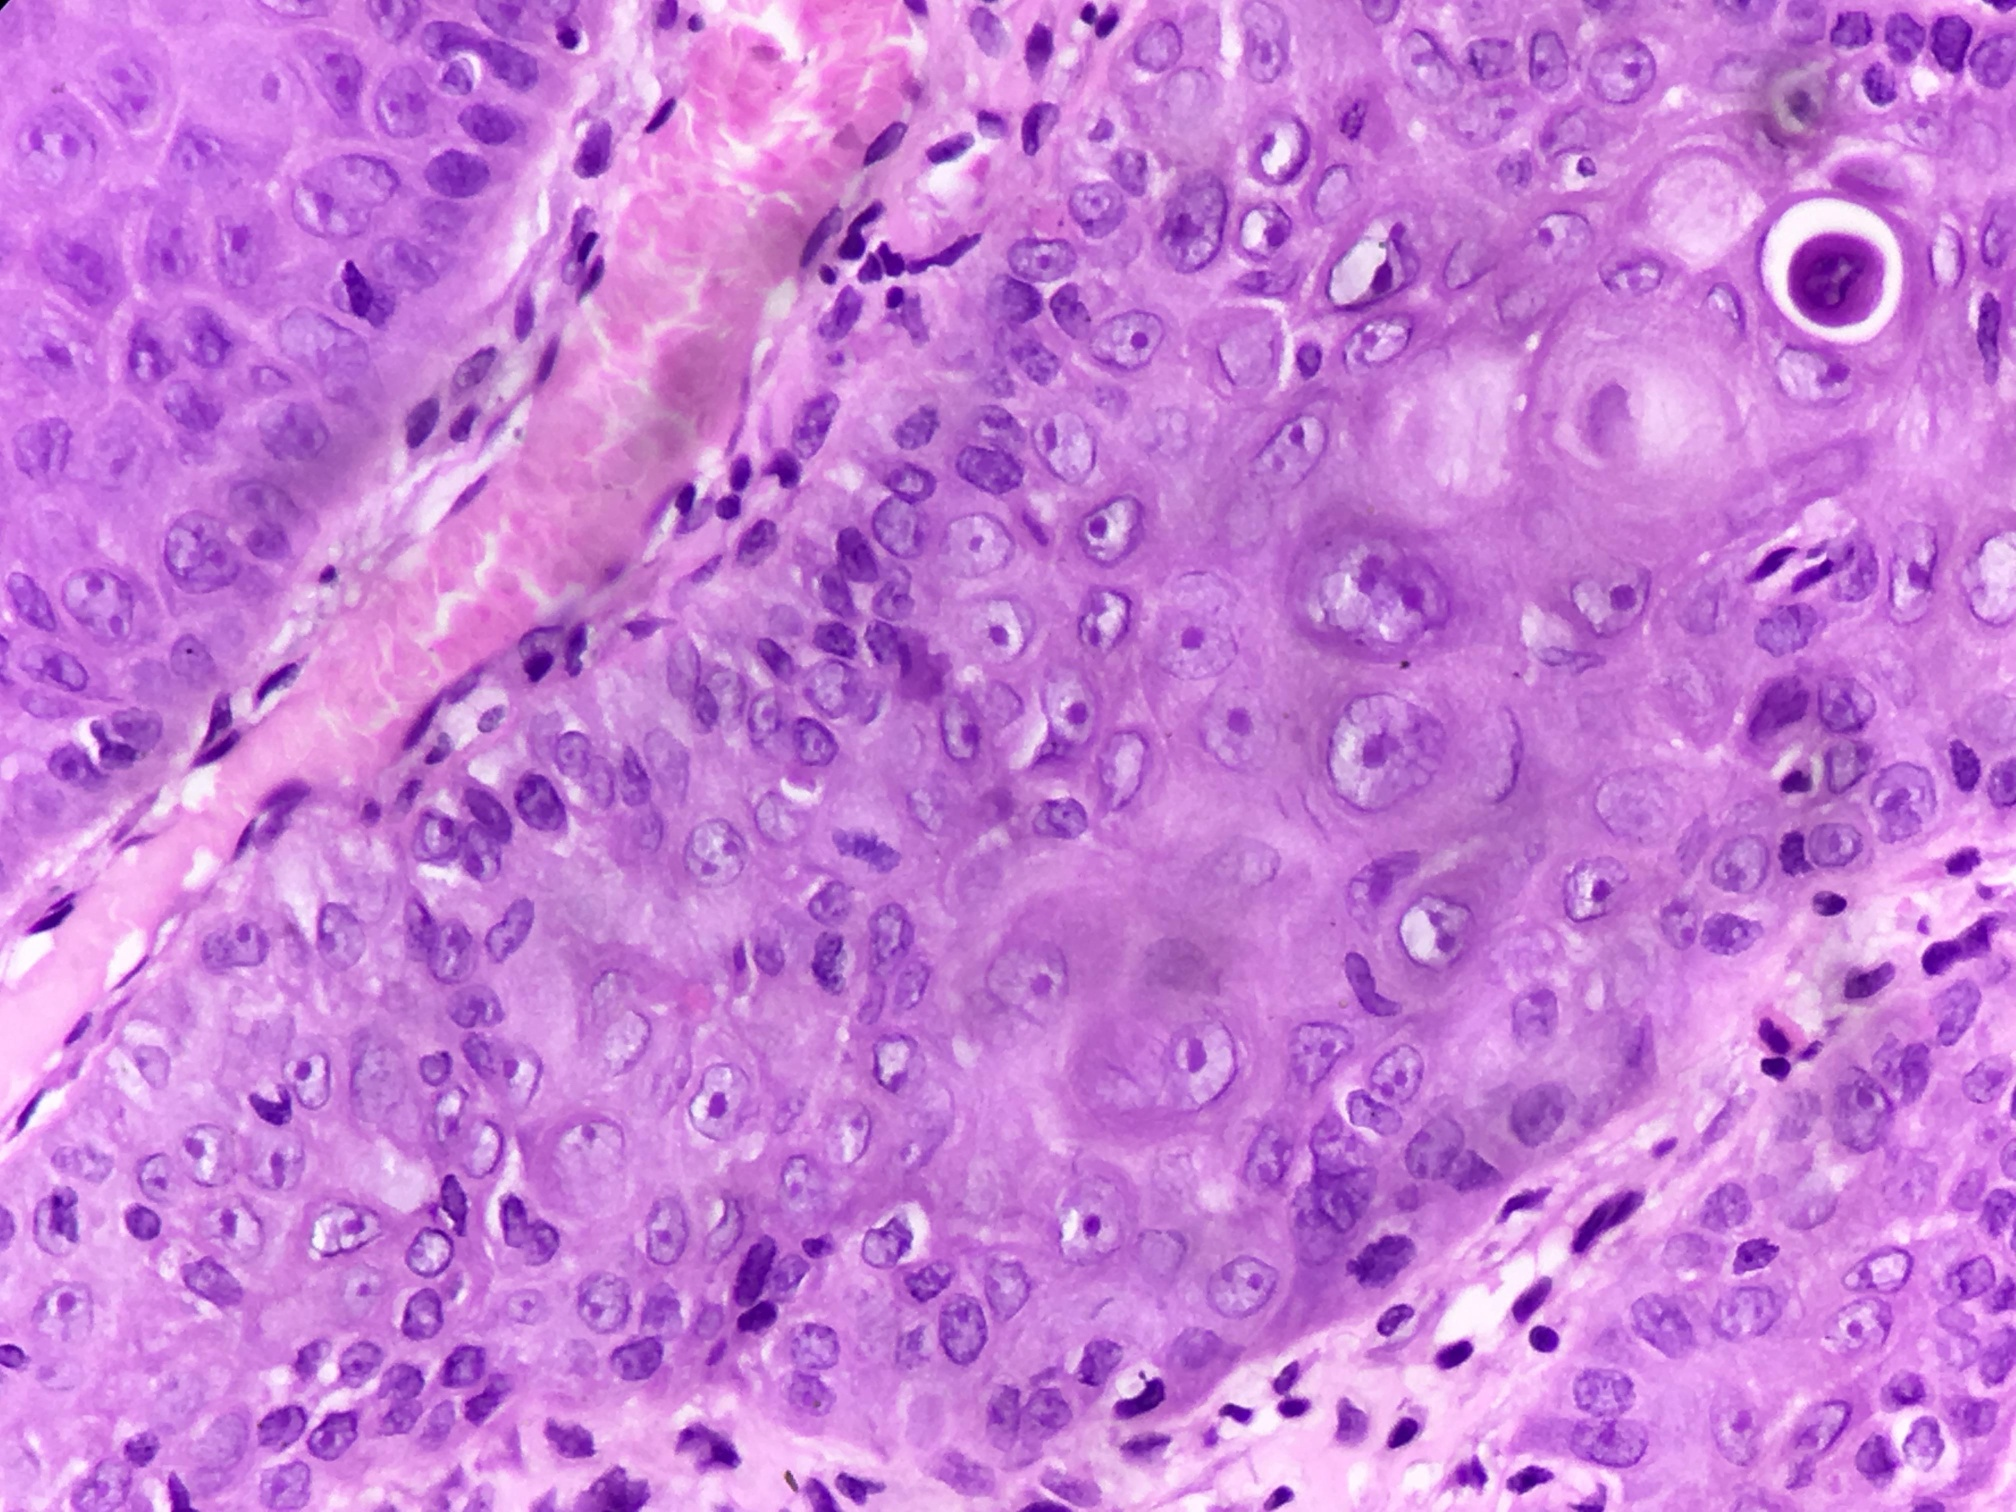mitotic: (1310, 1172, 1473, 1348)
